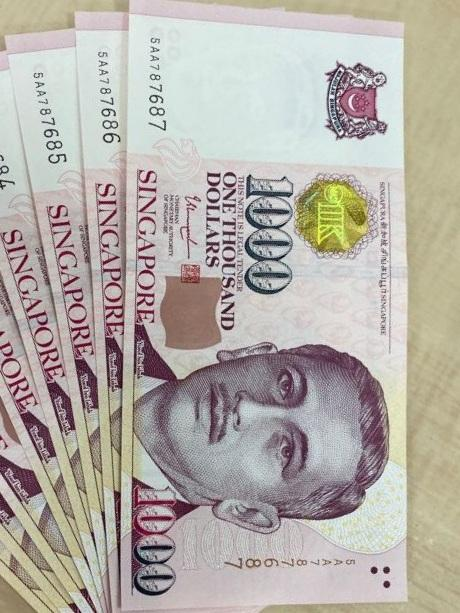1000SingaporeDollar: (130, 22, 402, 605)
